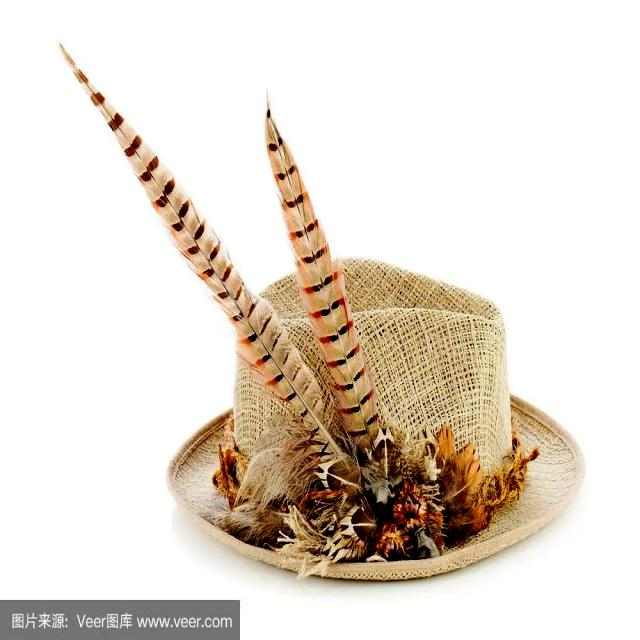Phasianus Colchicus: (55, 40, 334, 459), (265, 100, 382, 451)
